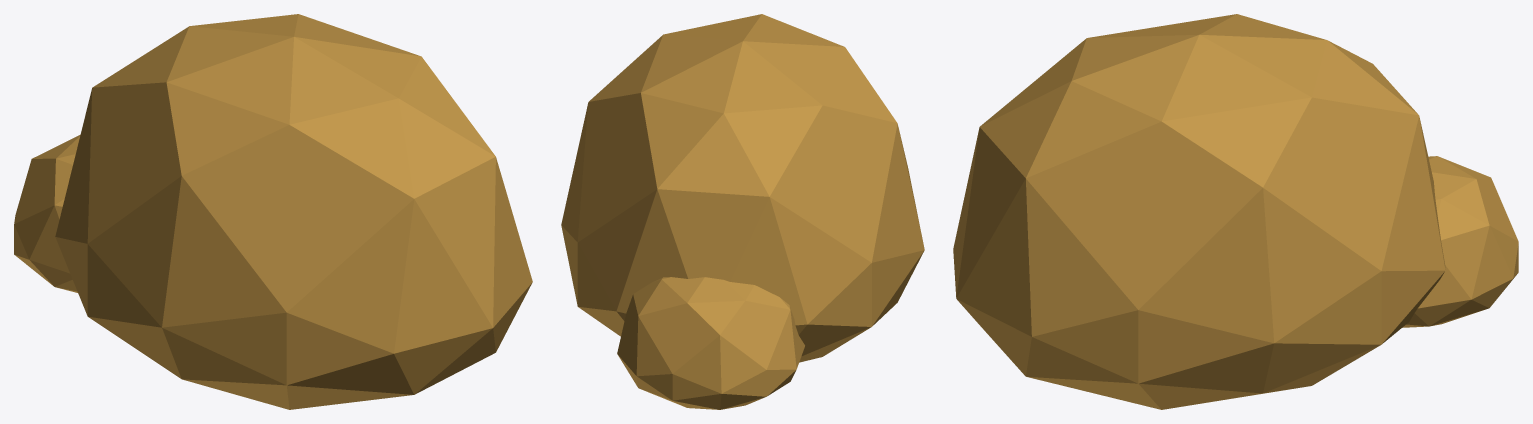
The model's file is bush_orange_4.glb.
The picture shows the model from 3 angles, left to right: view 1: azimuth 30°, elevation 25°; view 2: azimuth 150°, elevation 25°; view 3: azimuth 270°, elevation 25°; orthographic projection. The views are drawn at different scales.
Visible parts, largest first — view 1: Liurnia Bushes.003; view 2: Liurnia Bushes.003; view 3: Liurnia Bushes.003.
Part boxes in pixels (x1,y1,x2,y2): Liurnia Bushes.003: (14, 14, 532, 409); Liurnia Bushes.003: (561, 14, 924, 409); Liurnia Bushes.003: (953, 14, 1518, 409).
Size of the model in its own units: 0.077 by 0.0711 by 0.1058.
